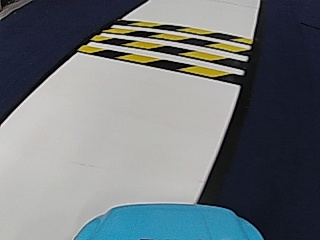bump: (106, 21, 240, 83)
